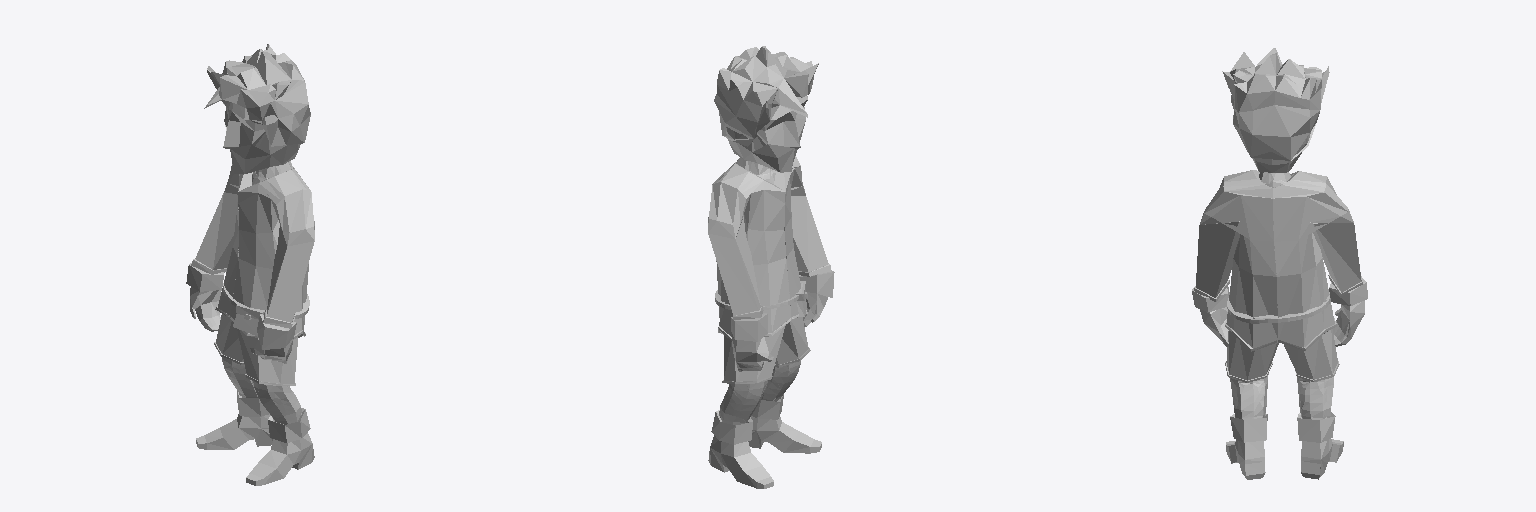
The model's file is idleNoWeapon2.obj.
The picture shows the model from 3 angles: view 1: azimuth 30°, elevation 25°; view 2: azimuth 150°, elevation 25°; view 3: azimuth 270°, elevation 25°; orthographic projection.
Visible parts, largest first — view 1: Jacket__jaket_Cylinder.001_Jacket__jaket_Cylinder.001_P_e8d_Jack, Hair_Hair__Cube.000_Hair_Hair__Cube.000_PlayerMaterialOffic_Hair, Head_Head_Cube.000_Head_Head_Cube.000_PlayerMaterialOfficia_Head, Boot_right_bota_Cube.000_Boot_right_bota_Cube.000_Playe_7d6_Boot, Trausers_trausers_Cylinder.000_Trausers_trausers_Cylind_bfd_Trau, Humanoide_Body_Base_Modified_Humanoide_Base_Base_NPC__c_7f8_Huma, Boot_left_bota_Cube.001_Boot_left_bota_Cube.001_PlayerM_5d3_Boot, Globe_left_globe_Cylinder.001_Globe_left_globe_Cylinder_383_Glob, Globe_right_globe_Cylinder.005_Globe_right_globe_Cylind_70e_Glob, Bag_Cube_Cube.001_Bag_Cube_Cube.001_PlayerMaterialOfficial.001_B; view 2: Jacket__jaket_Cylinder.001_Jacket__jaket_Cylinder.001_P_e8d_Jack, Hair_Hair__Cube.000_Hair_Hair__Cube.000_PlayerMaterialOffic_Hair, Head_Head_Cube.000_Head_Head_Cube.000_PlayerMaterialOfficia_Head, Boot_left_bota_Cube.001_Boot_left_bota_Cube.001_PlayerM_5d3_Boot, Humanoide_Body_Base_Modified_Humanoide_Base_Base_NPC__c_7f8_Huma, Trausers_trausers_Cylinder.000_Trausers_trausers_Cylind_bfd_Trau, Boot_right_bota_Cube.000_Boot_right_bota_Cube.000_Playe_7d6_Boot, Globe_left_globe_Cylinder.001_Globe_left_globe_Cylinder_383_Glob, Globe_right_globe_Cylinder.005_Globe_right_globe_Cylind_70e_Glob; view 3: Jacket__jaket_Cylinder.001_Jacket__jaket_Cylinder.001_P_e8d_Jack, Hair_Hair__Cube.000_Hair_Hair__Cube.000_PlayerMaterialOffic_Hair, Trausers_trausers_Cylinder.000_Trausers_trausers_Cylind_bfd_Trau, Humanoide_Body_Base_Modified_Humanoide_Base_Base_NPC__c_7f8_Huma, Boot_left_bota_Cube.001_Boot_left_bota_Cube.001_PlayerM_5d3_Boot, Boot_right_bota_Cube.000_Boot_right_bota_Cube.000_Playe_7d6_Boot, Globe_left_globe_Cylinder.001_Globe_left_globe_Cylinder_383_Glob, Globe_right_globe_Cylinder.005_Globe_right_globe_Cylind_70e_Glob, Belt_Cylinder.001_Belt_Cylinder.001_PlayerMaterialOfficial.001_B, Head_Head_Cube.000_Head_Head_Cube.000_PlayerMaterialOfficia_Head.
Part boxes in pixels (bbox=[...]): Jacket__jaket_Cylinder.001_Jacket__jaket_Cylinder.001_P_e8d_Jack: bbox=[191, 164, 314, 339]; Hair_Hair__Cube.000_Hair_Hair__Cube.000_PlayerMaterialOffic_Hair: bbox=[204, 44, 310, 146]; Head_Head_Cube.000_Head_Head_Cube.000_PlayerMaterialOfficia_Head: bbox=[221, 100, 300, 173]; Boot_right_bota_Cube.000_Boot_right_bota_Cube.000_Playe_7d6_Boot: bbox=[246, 408, 314, 485]; Trausers_trausers_Cylinder.000_Trausers_trausers_Cylind_bfd_Trau: bbox=[214, 314, 297, 385]; Humanoide_Body_Base_Modified_Humanoide_Base_Base_NPC__c_7f8_Huma: bbox=[222, 161, 301, 424]; Boot_left_bota_Cube.001_Boot_left_bota_Cube.001_PlayerM_5d3_Boot: bbox=[196, 391, 272, 449]; Globe_left_globe_Cylinder.001_Globe_left_globe_Cylinder_383_Glob: bbox=[186, 263, 223, 331]; Globe_right_globe_Cylinder.005_Globe_right_globe_Cylind_70e_Glob: bbox=[250, 314, 296, 363]; Bag_Cube_Cube.001_Bag_Cube_Cube.001_PlayerMaterialOfficial.001_B: bbox=[233, 303, 264, 336]; Jacket__jaket_Cylinder.001_Jacket__jaket_Cylinder.001_P_e8d_Jack: bbox=[708, 156, 830, 340]; Hair_Hair__Cube.000_Hair_Hair__Cube.000_PlayerMaterialOffic_Hair: bbox=[714, 46, 818, 146]; Head_Head_Cube.000_Head_Head_Cube.000_PlayerMaterialOfficia_Head: bbox=[726, 96, 807, 172]; Boot_left_bota_Cube.001_Boot_left_bota_Cube.001_PlayerM_5d3_Boot: bbox=[708, 410, 773, 488]; Humanoide_Body_Base_Modified_Humanoide_Base_Base_NPC__c_7f8_Huma: bbox=[719, 157, 800, 425]; Trausers_trausers_Cylinder.000_Trausers_trausers_Cylind_bfd_Trau: bbox=[722, 317, 810, 383]; Boot_right_bota_Cube.000_Boot_right_bota_Cube.000_Playe_7d6_Boot: bbox=[748, 394, 821, 453]; Globe_left_globe_Cylinder.001_Globe_left_globe_Cylinder_383_Glob: bbox=[731, 313, 773, 371]; Globe_right_globe_Cylinder.005_Globe_right_globe_Cylind_70e_Glob: bbox=[799, 270, 834, 326]; Jacket__jaket_Cylinder.001_Jacket__jaket_Cylinder.001_P_e8d_Jack: bbox=[1194, 170, 1362, 351]; Hair_Hair__Cube.000_Hair_Hair__Cube.000_PlayerMaterialOffic_Hair: bbox=[1222, 48, 1329, 160]; Trausers_trausers_Cylinder.000_Trausers_trausers_Cylind_bfd_Trau: bbox=[1225, 329, 1339, 382]; Humanoide_Body_Base_Modified_Humanoide_Base_Base_NPC__c_7f8_Huma: bbox=[1230, 172, 1333, 419]; Boot_left_bota_Cube.001_Boot_left_bota_Cube.001_PlayerM_5d3_Boot: bbox=[1297, 412, 1343, 479]; Boot_right_bota_Cube.000_Boot_right_bota_Cube.000_Playe_7d6_Boot: bbox=[1226, 413, 1267, 479]; Globe_left_globe_Cylinder.001_Globe_left_globe_Cylinder_383_Glob: bbox=[1329, 276, 1367, 346]; Globe_right_globe_Cylinder.005_Globe_right_globe_Cylind_70e_Glob: bbox=[1192, 287, 1229, 346]; Belt_Cylinder.001_Belt_Cylinder.001_PlayerMaterialOfficial.001_B: bbox=[1227, 292, 1330, 323]; Head_Head_Cube.000_Head_Head_Cube.000_PlayerMaterialOfficia_Head: bbox=[1252, 130, 1311, 172].
Size of the model in its own units: 9.3 by 39.78 by 15.5.